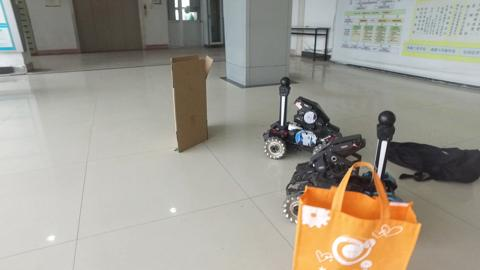box: (171, 54, 212, 147)
chariot: (280, 110, 410, 220), (265, 76, 340, 158)
